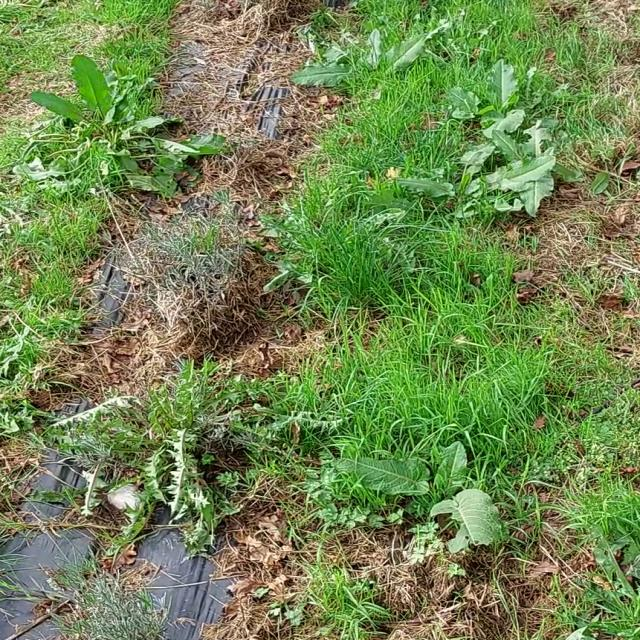organic waste: (325, 417, 548, 564), (23, 49, 203, 201), (374, 134, 571, 232), (277, 23, 473, 120), (438, 73, 584, 150)
